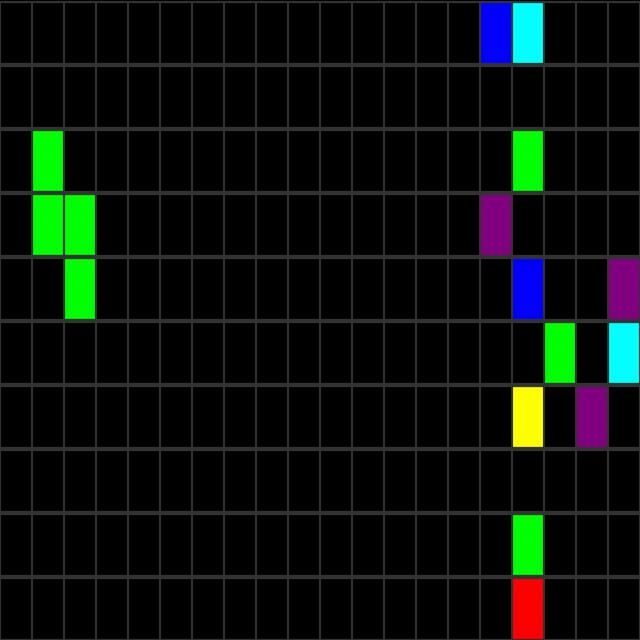Tetrimino_T: (32, 125, 96, 322)
